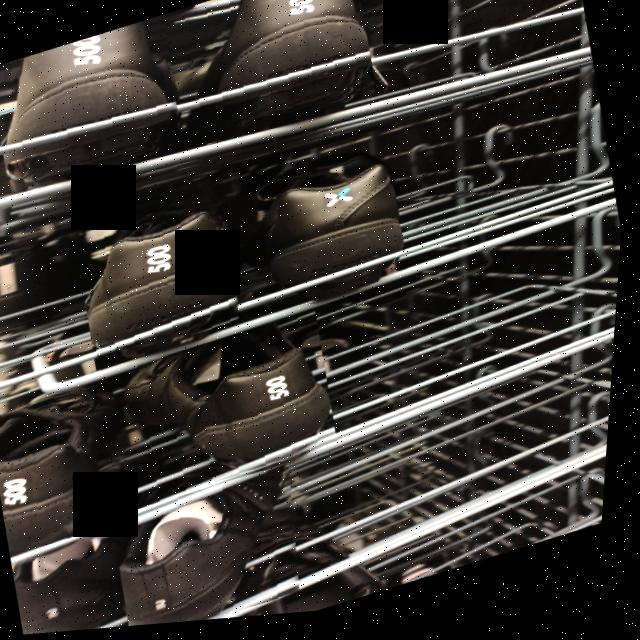shoe: (121, 313, 352, 511), (0, 14, 195, 198), (111, 466, 325, 631), (70, 192, 260, 374), (164, 0, 384, 155), (241, 151, 420, 323), (0, 376, 149, 559)
